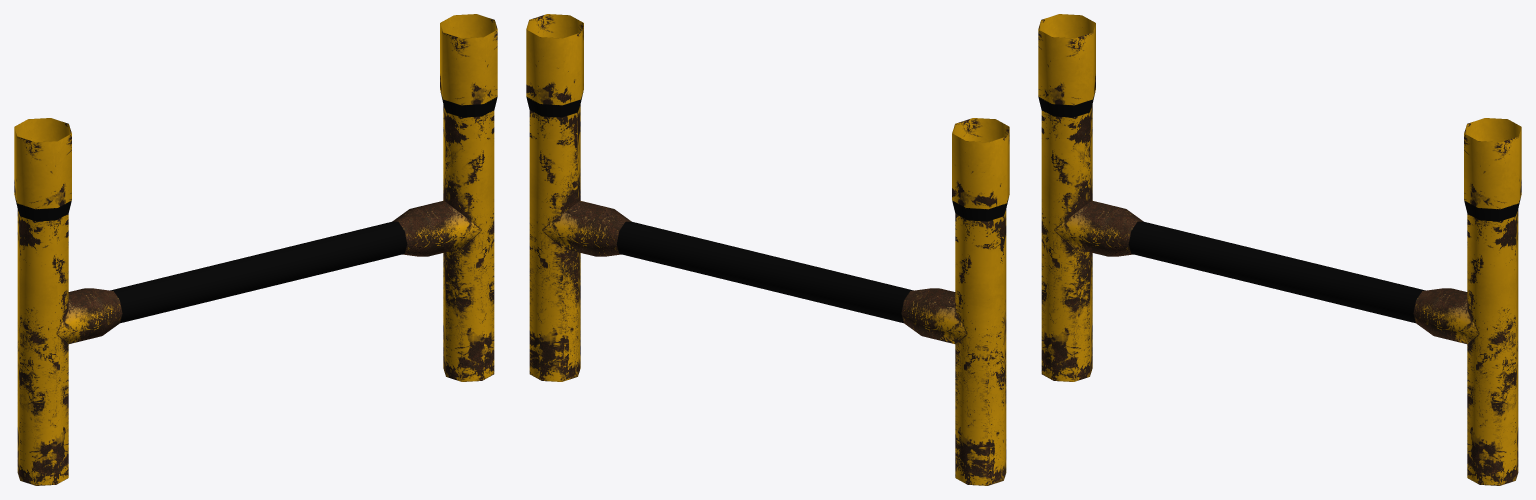
The model's file is Ladder001.fbx.
3 views of the same model, side by side, from view 1: azimuth 30°, elevation 25°; view 2: azimuth 150°, elevation 25°; view 3: azimuth 330°, elevation 25° (orthographic).
Parts seen in each view (by area): view 1: Cylinder; view 2: Cylinder; view 3: Cylinder.
Boxes of the visible parts, <box> form: Cylinder: <box>14,14,497,485</box>; Cylinder: <box>526,14,1009,485</box>; Cylinder: <box>1038,14,1521,485</box>.
Bounding box in the file's own units: 208 × 144 × 22.56.
1 material, 1 textured.
